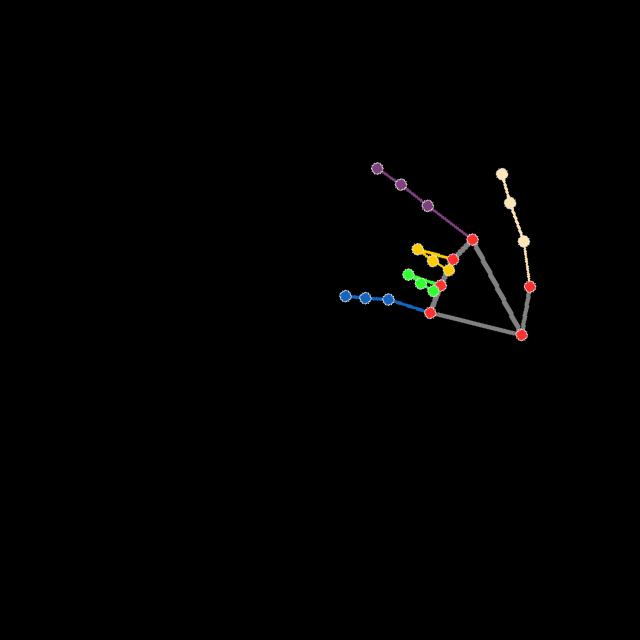spiderman: (335, 153, 536, 343)
